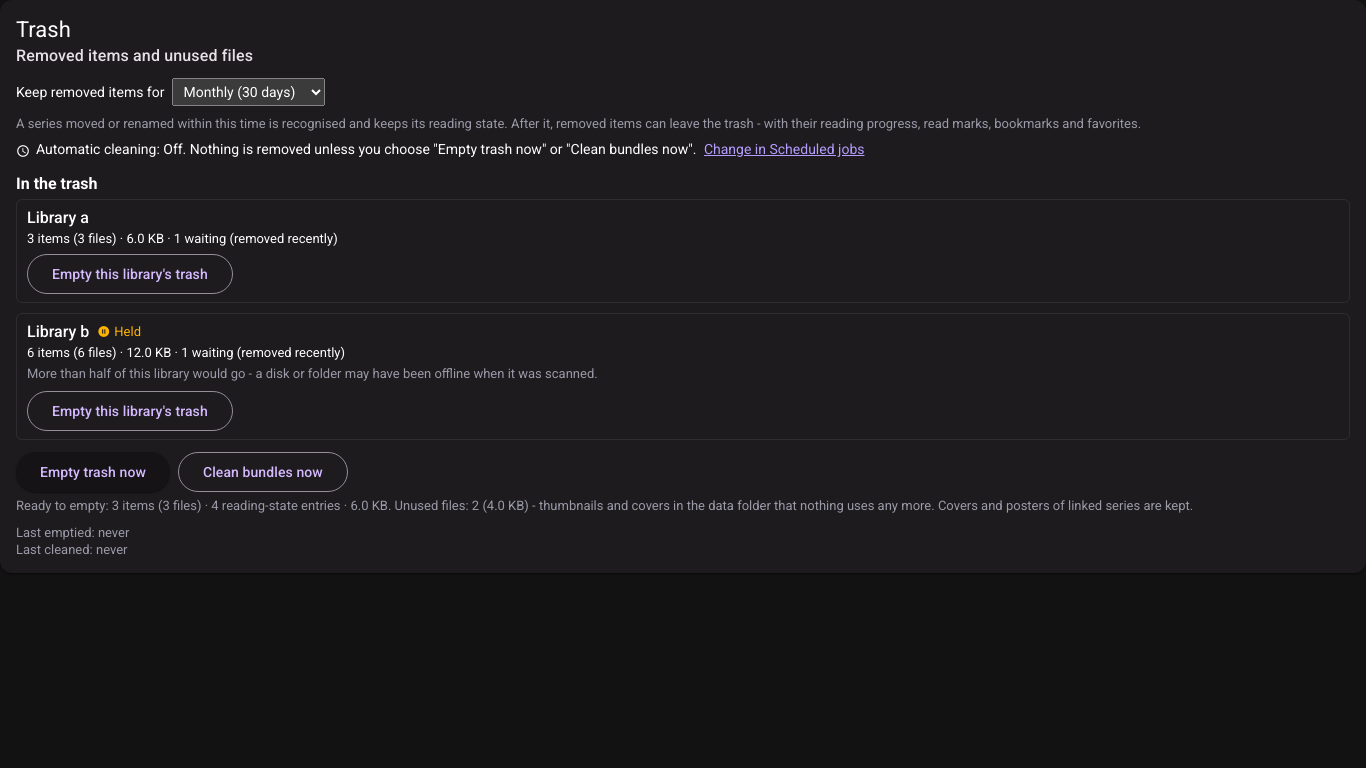
Test: TrashCardComponent › one held library's empty names the hold and releases it after the confirm
Click the button with test id "trash-empty-lib-b" at (130, 411), box [27,391,233,431]
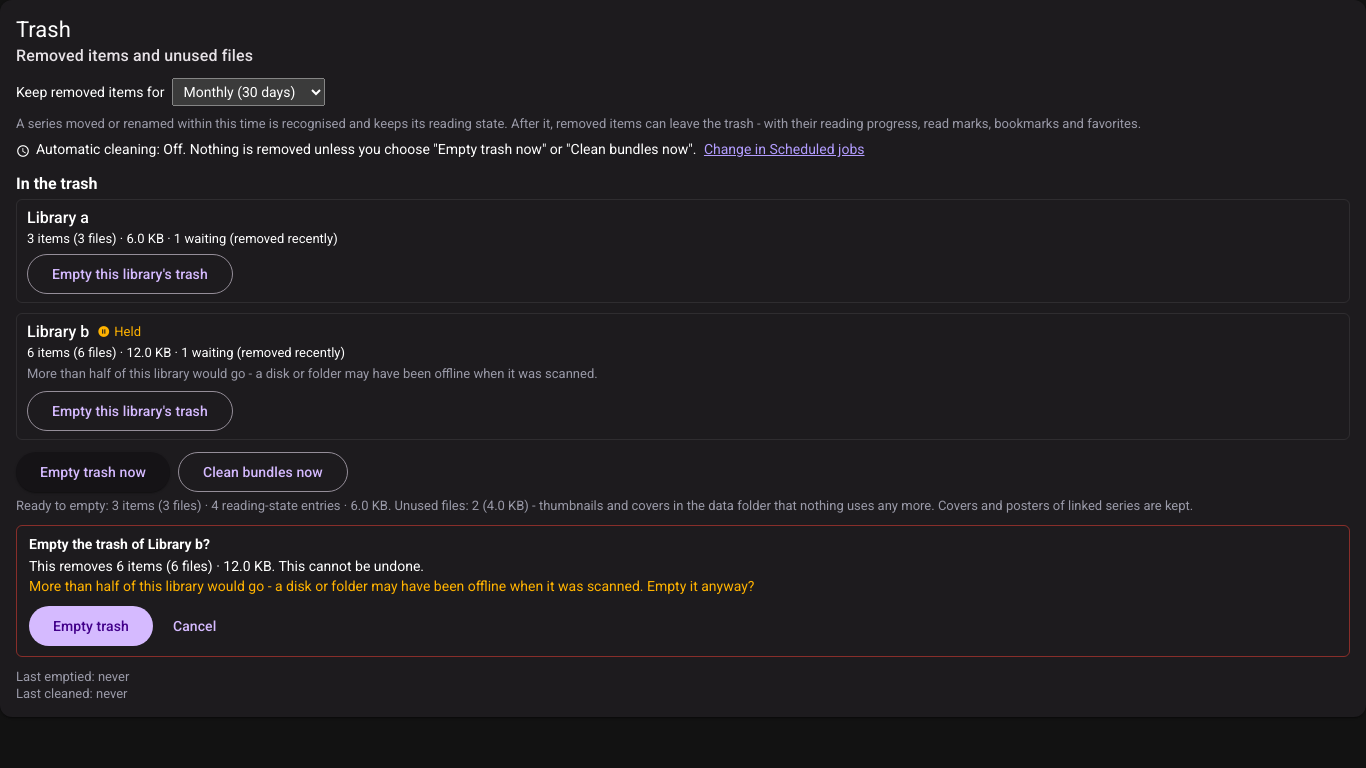
Expected: the dialog with test id "trash-confirm" shows "Empty the trash of Library b?", [29,536,210,552]
Expected: the dialog with test id "trash-confirm" shows "Empty it anyway?", [29,578,754,594]
